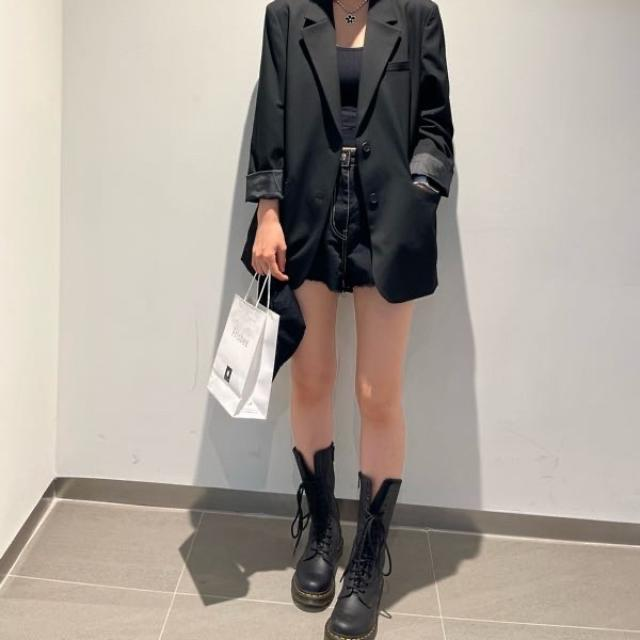blazer: (241, 0, 457, 301)
shortpants: (282, 150, 412, 288)
